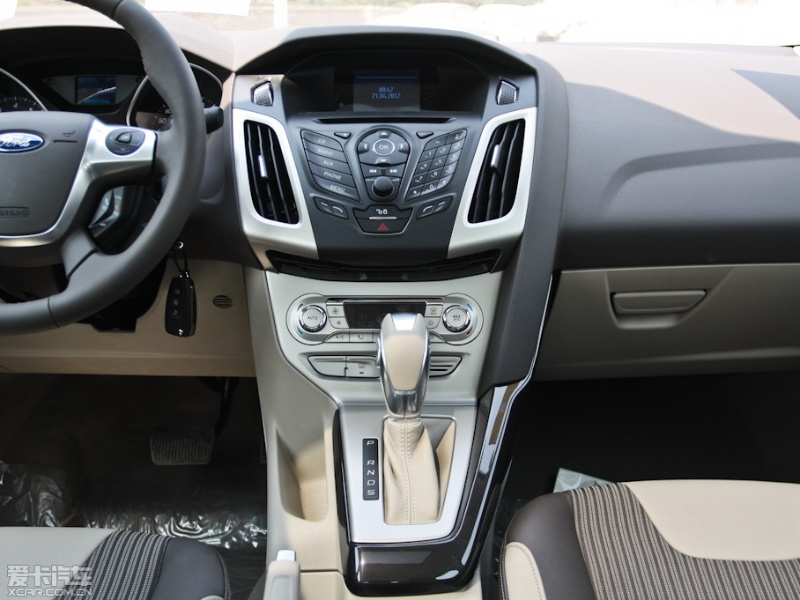control_center: (234, 32, 576, 304)
gear_lever: (283, 303, 486, 569)
odometer: (2, 56, 244, 130)
steering_wheel: (1, 13, 249, 330)
